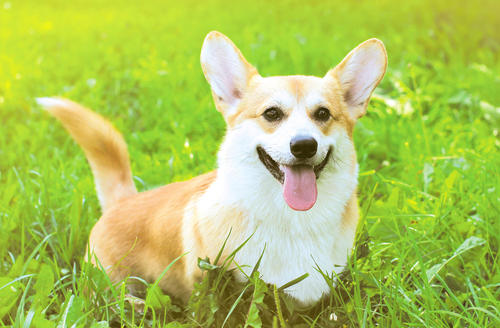dog: (191, 32, 402, 213)
